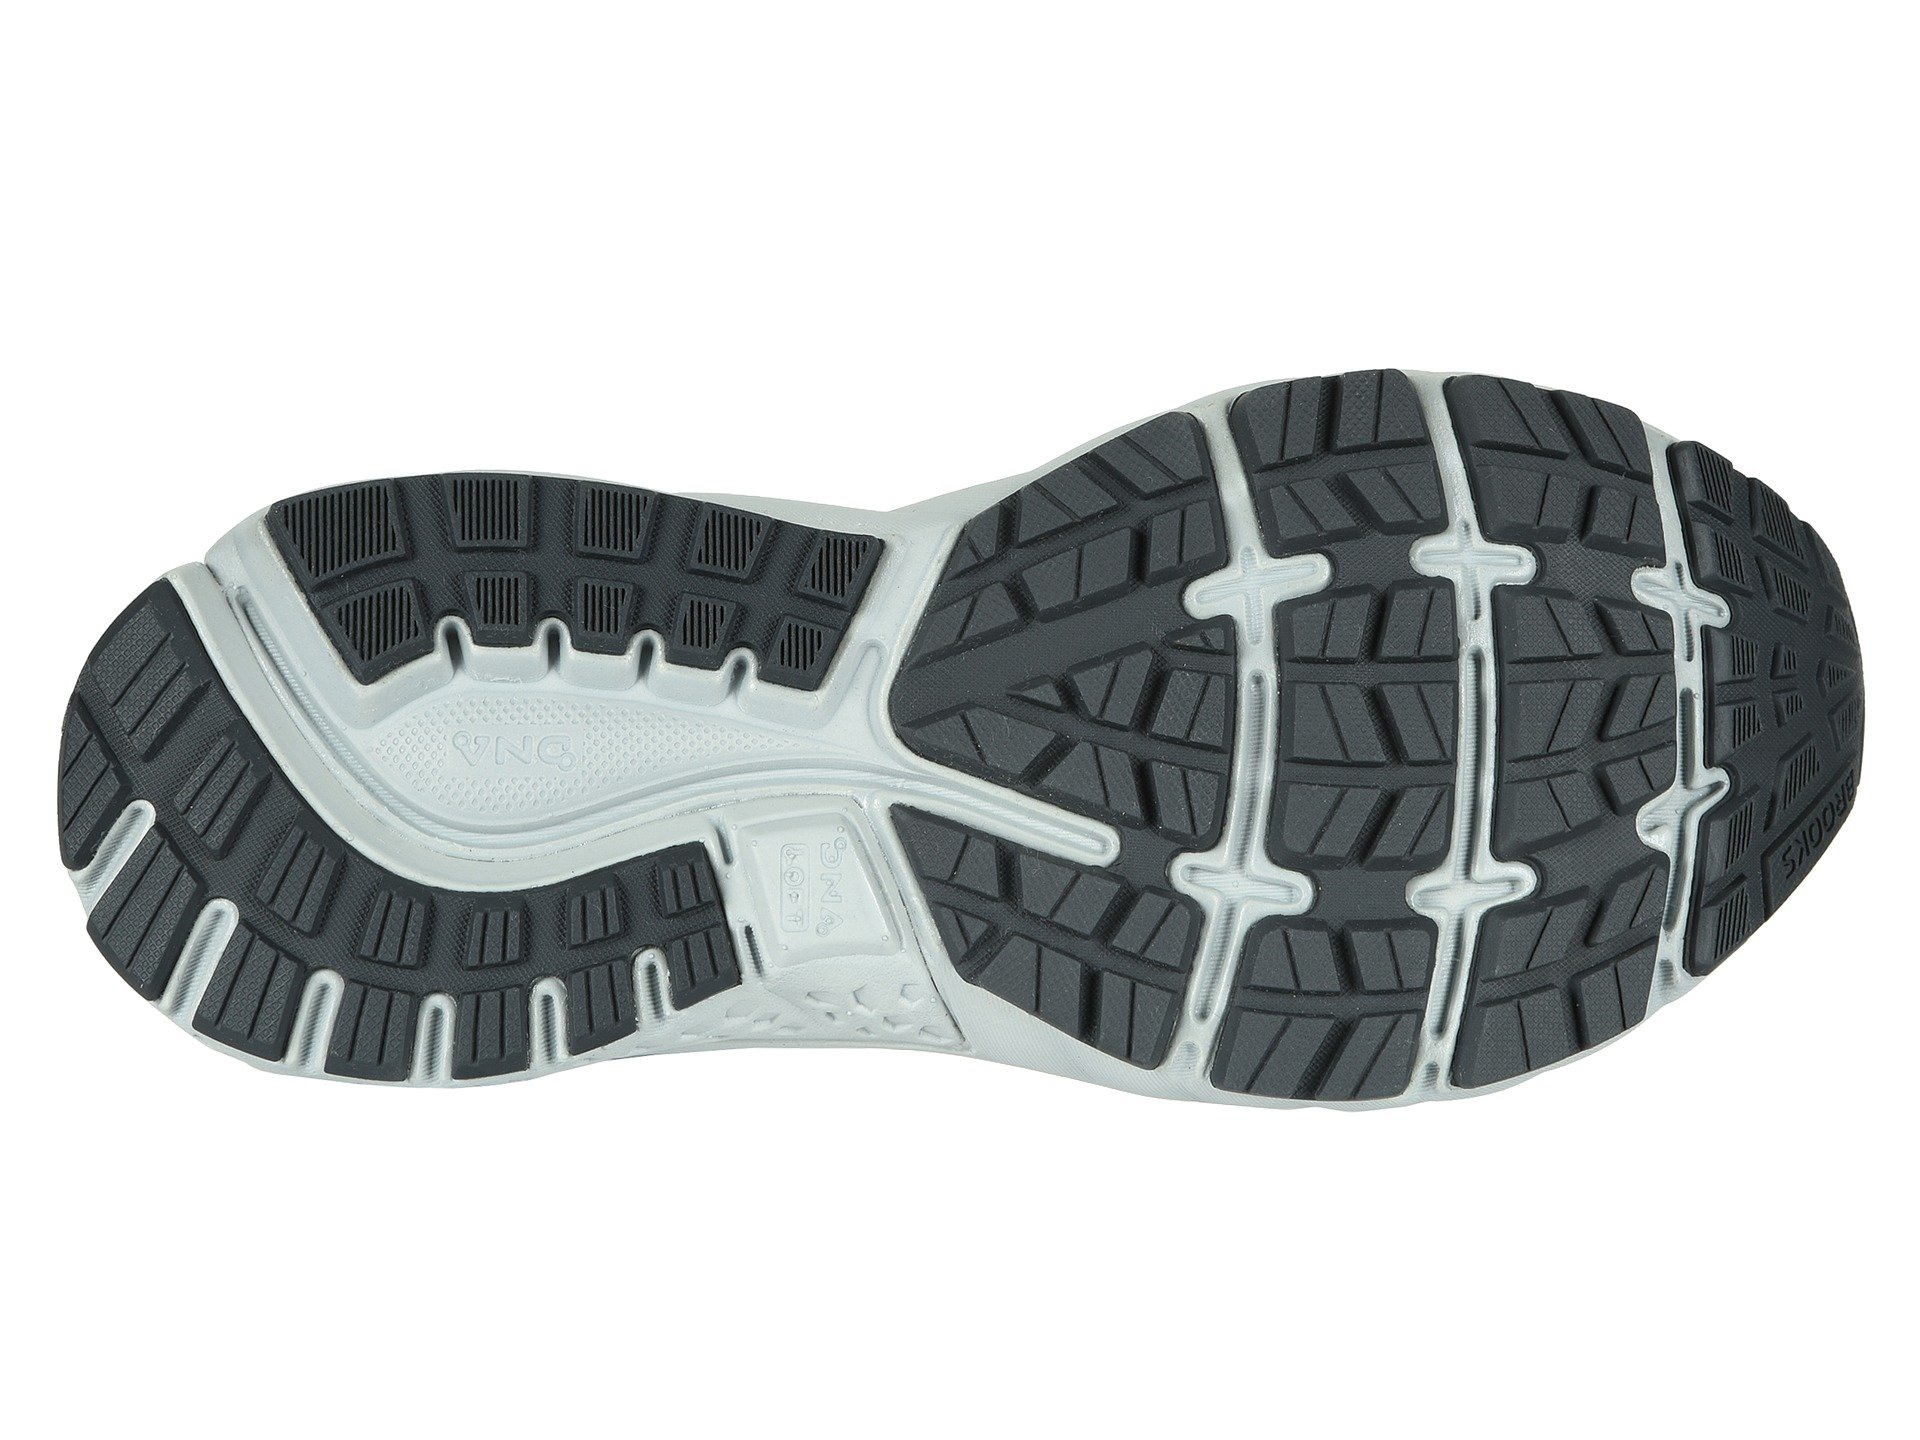circle: (739, 811, 893, 976), (416, 715, 627, 785)
line: (1355, 458, 1612, 781), (333, 483, 715, 641)
quad: (1355, 458, 1612, 781), (333, 483, 715, 641), (974, 490, 1161, 628), (739, 811, 893, 976)
text: (739, 811, 893, 976), (416, 715, 627, 785)
triangle: (1355, 458, 1612, 781), (974, 490, 1161, 628)
